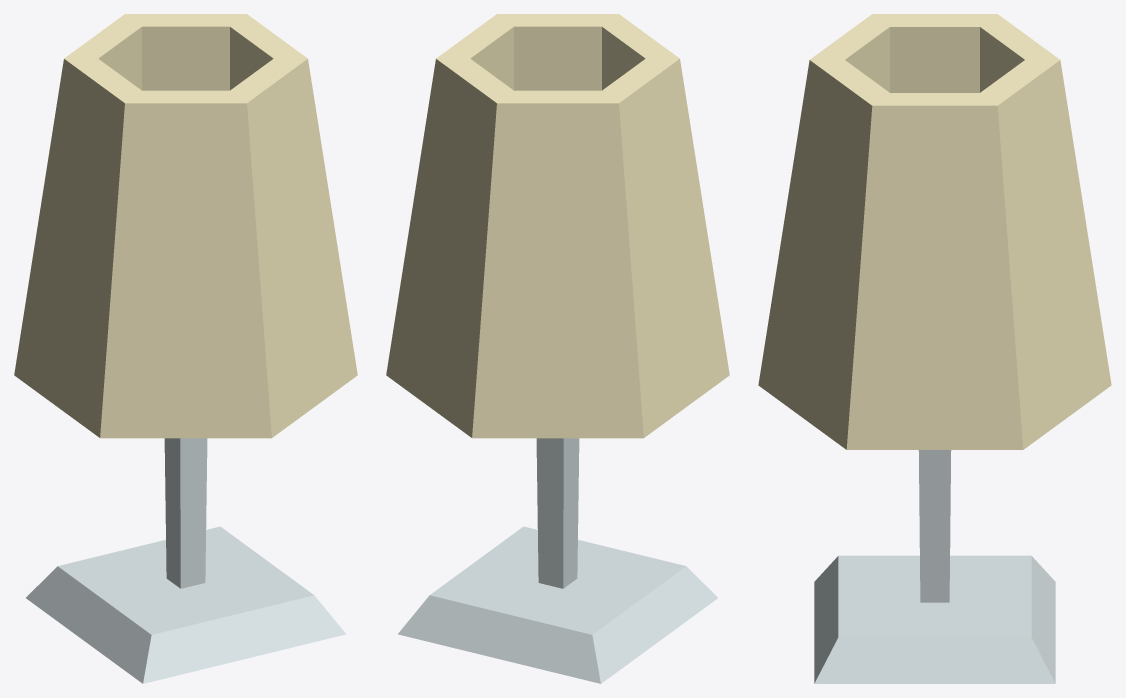
The model's file is lampRoundTable.gltf.
The picture shows the model from 3 angles, left to right: view 1: azimuth 30°, elevation 25°; view 2: azimuth 150°, elevation 25°; view 3: azimuth 270°, elevation 25°; orthographic projection. The views are drawn at different scales.
Visible parts, largest first — view 1: lampRoundTable(Clone); view 2: lampRoundTable(Clone); view 3: lampRoundTable(Clone).
Part boxes in pixels (x1,y1,x2,y2): lampRoundTable(Clone): (14, 14, 357, 683); lampRoundTable(Clone): (386, 14, 729, 683); lampRoundTable(Clone): (758, 14, 1111, 683).
Bounding box in the file's own units: 0.152 × 0.3142 × 0.1756.
